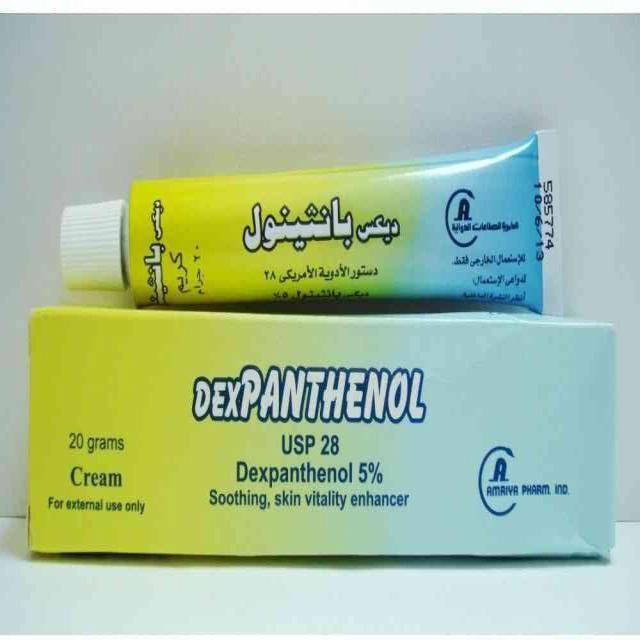drug-name: (189, 356, 429, 425)
